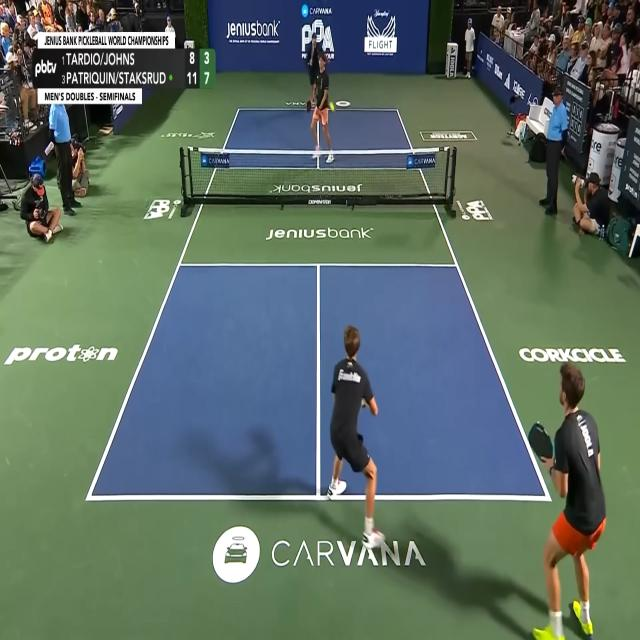ball: (330, 102, 334, 112)
